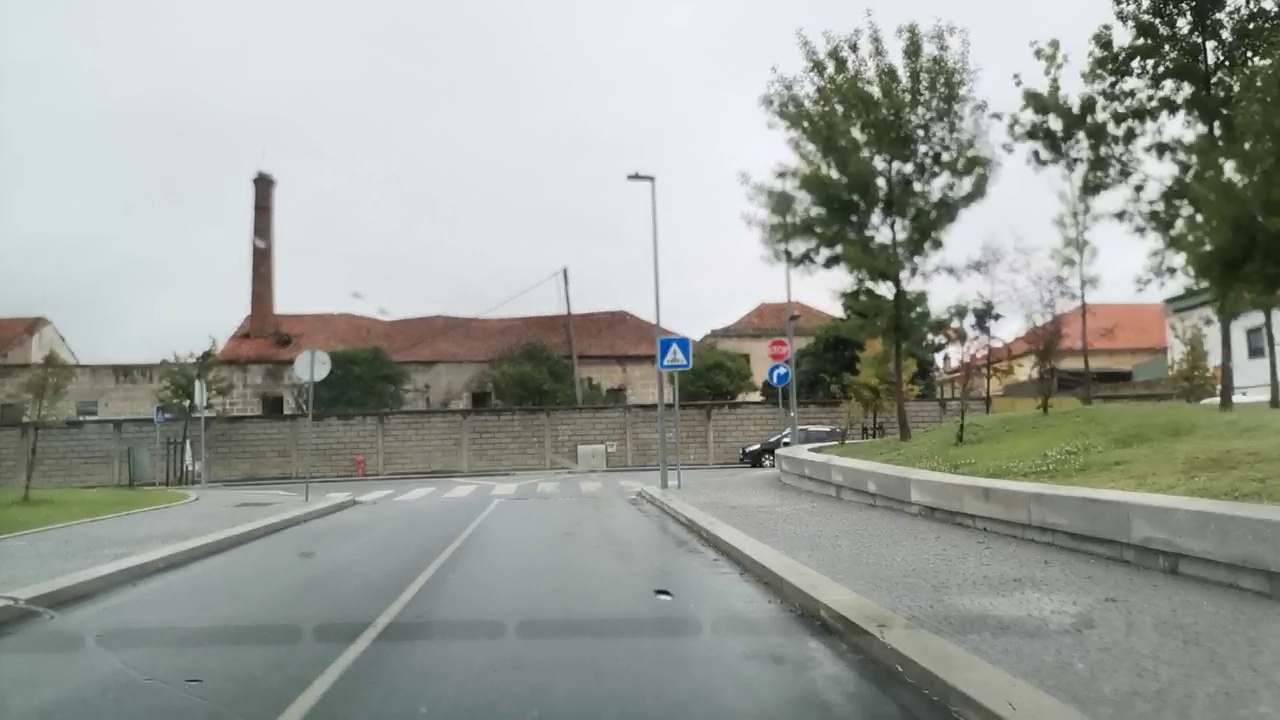Stairs: (323, 479, 650, 501)
